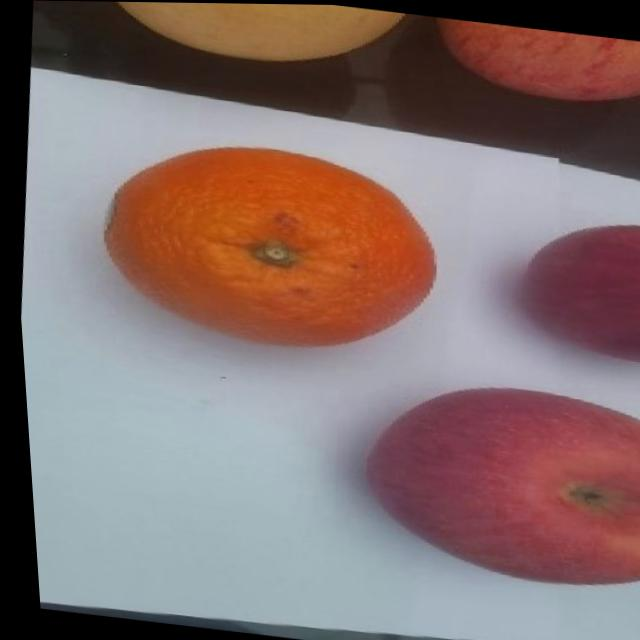Apple: (341, 367, 640, 594), (506, 207, 640, 369), (433, 16, 640, 111)
Orange: (78, 125, 450, 366)
